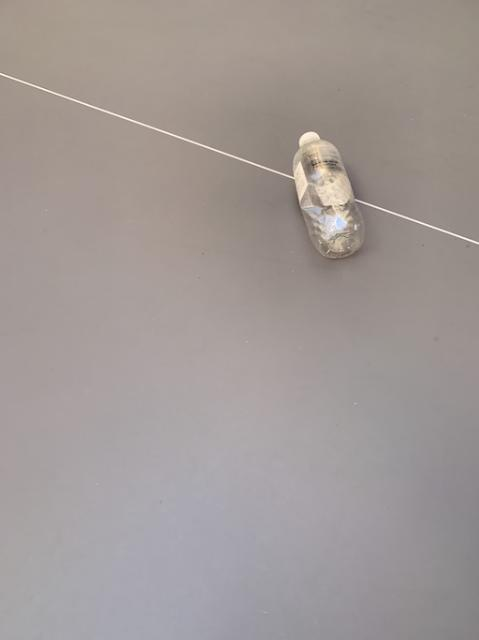plastic: (292, 130, 363, 257)
